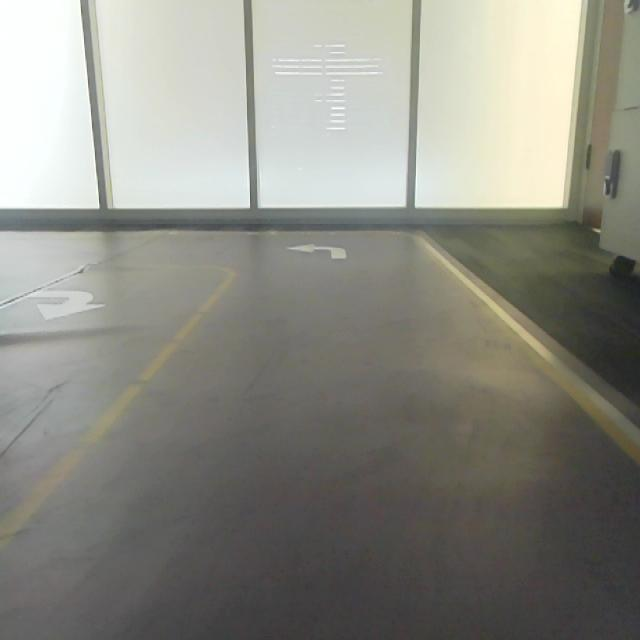left_lane: (0, 277, 229, 554)
right_lane: (417, 239, 639, 464)
